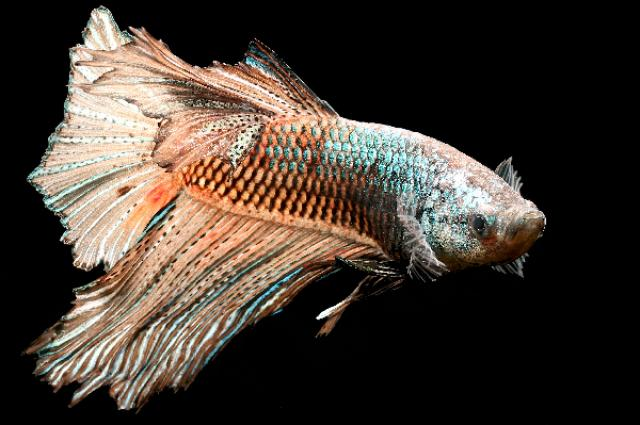Mulut: (486, 196, 574, 261)
Sirip Dada: (373, 172, 455, 294)
Sirip Perut: (304, 247, 418, 343)
Sirip Punggung: (53, 14, 355, 180)
